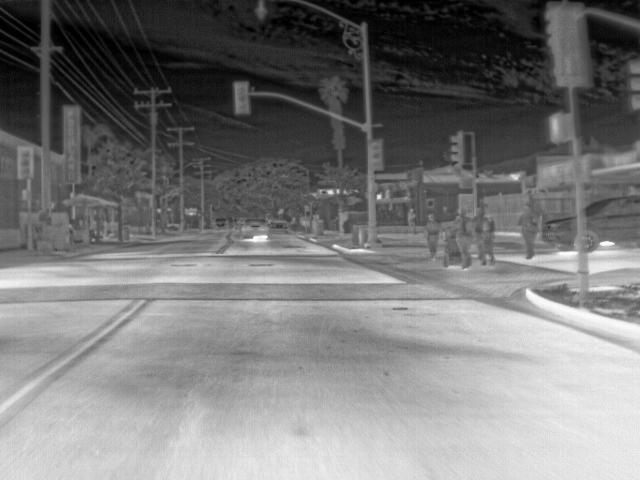car: (586, 193, 639, 252), (543, 215, 577, 251), (234, 216, 269, 242), (267, 218, 291, 236), (213, 216, 228, 228)
person: (474, 206, 495, 267), (517, 202, 537, 260), (456, 206, 474, 269), (424, 211, 439, 261), (405, 206, 416, 227)
